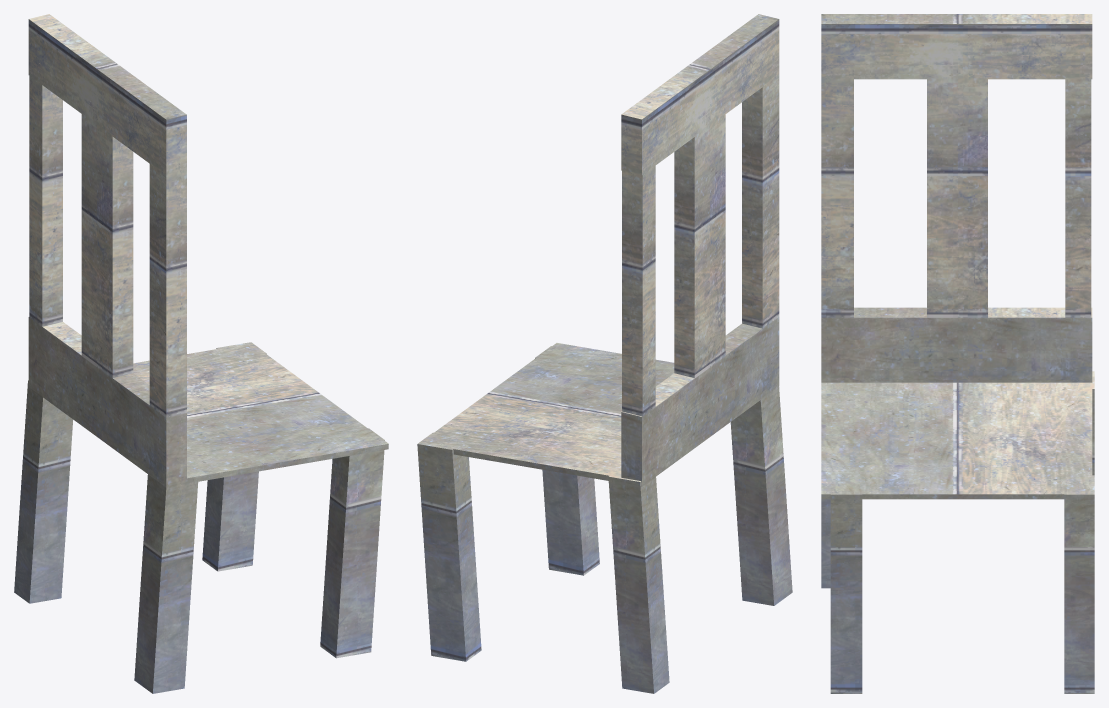
Rendered from Chair.fbx.
3 renders of one model, left to right at view 1: azimuth 30°, elevation 25°; view 2: azimuth 150°, elevation 25°; view 3: azimuth 270°, elevation 25°, orthographic.
Visible parts, largest first — view 1: Chair1; view 2: Chair1; view 3: Chair1.
Part boxes in pixels (<box>): Chair1: <box>14,14,388,693</box>; Chair1: <box>417,14,792,693</box>; Chair1: <box>821,14,1094,693</box>.
Bounding box in the file's own units: 172 × 408 × 175.
